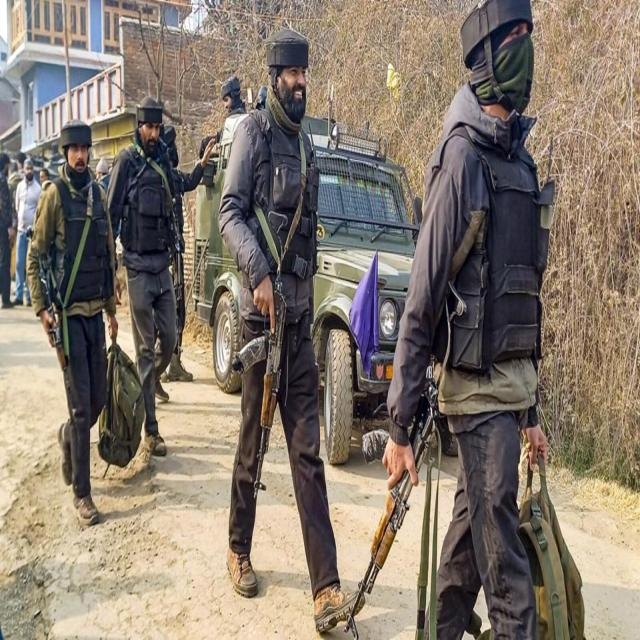Militant: (386, 0, 594, 640), (224, 20, 364, 640), (21, 95, 131, 546), (111, 80, 193, 483)
